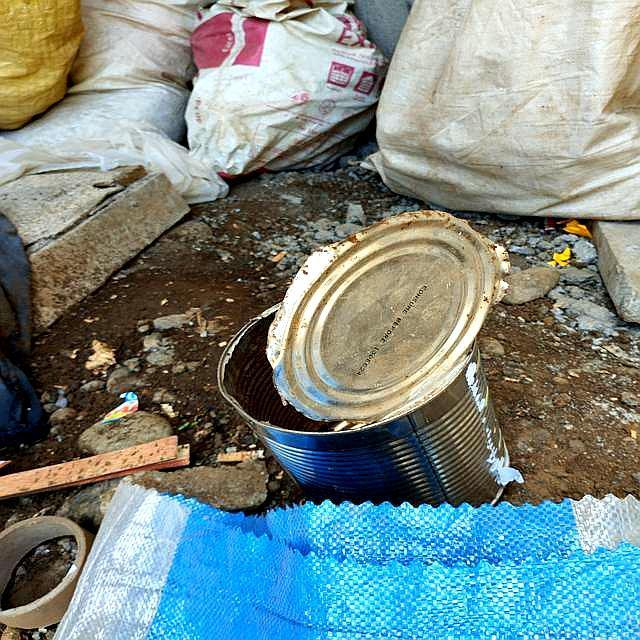Non-biodegradable: (212, 207, 518, 507)
